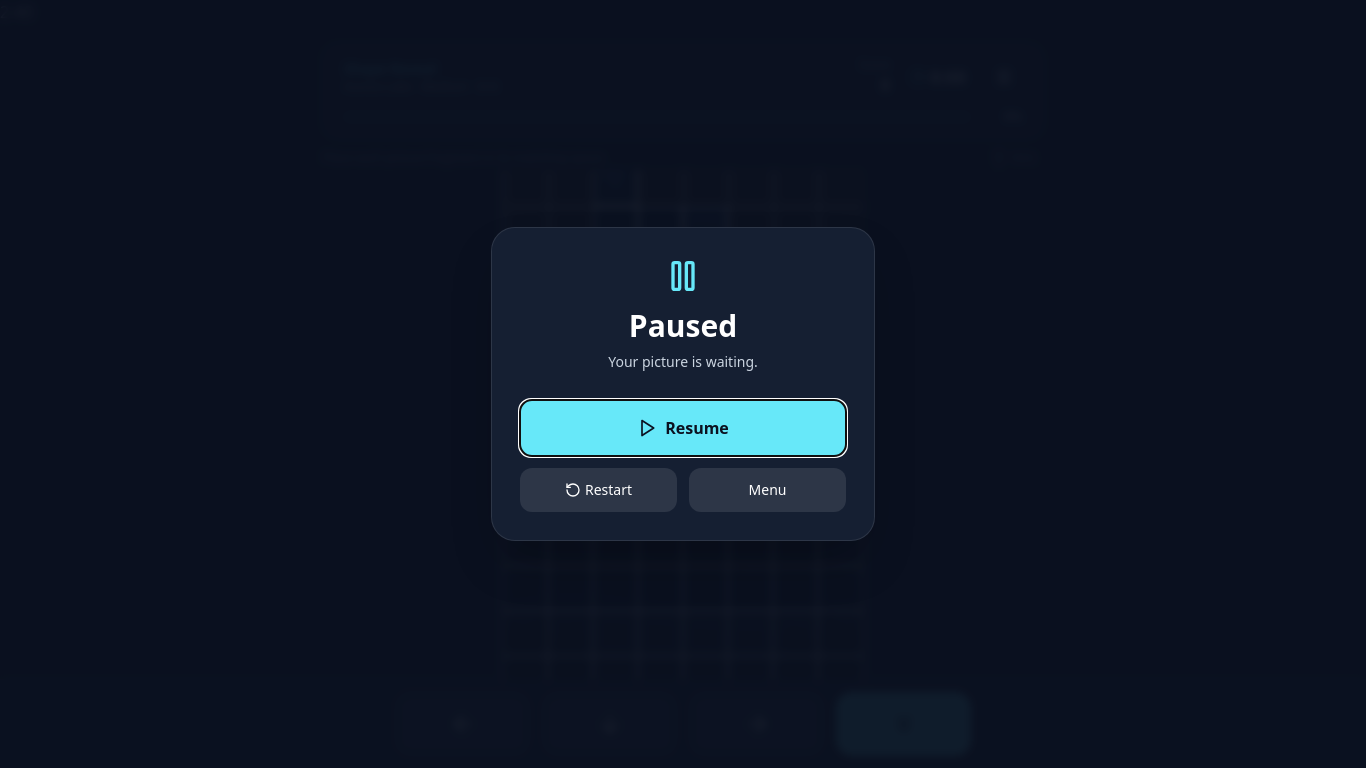
Test: touch controls › pause opens a focused dialog that blocks input until resumed
Earlier steps of the test are not shown.
Click the button "Resume". click: click(683, 428)
box: [520,400,846,456]
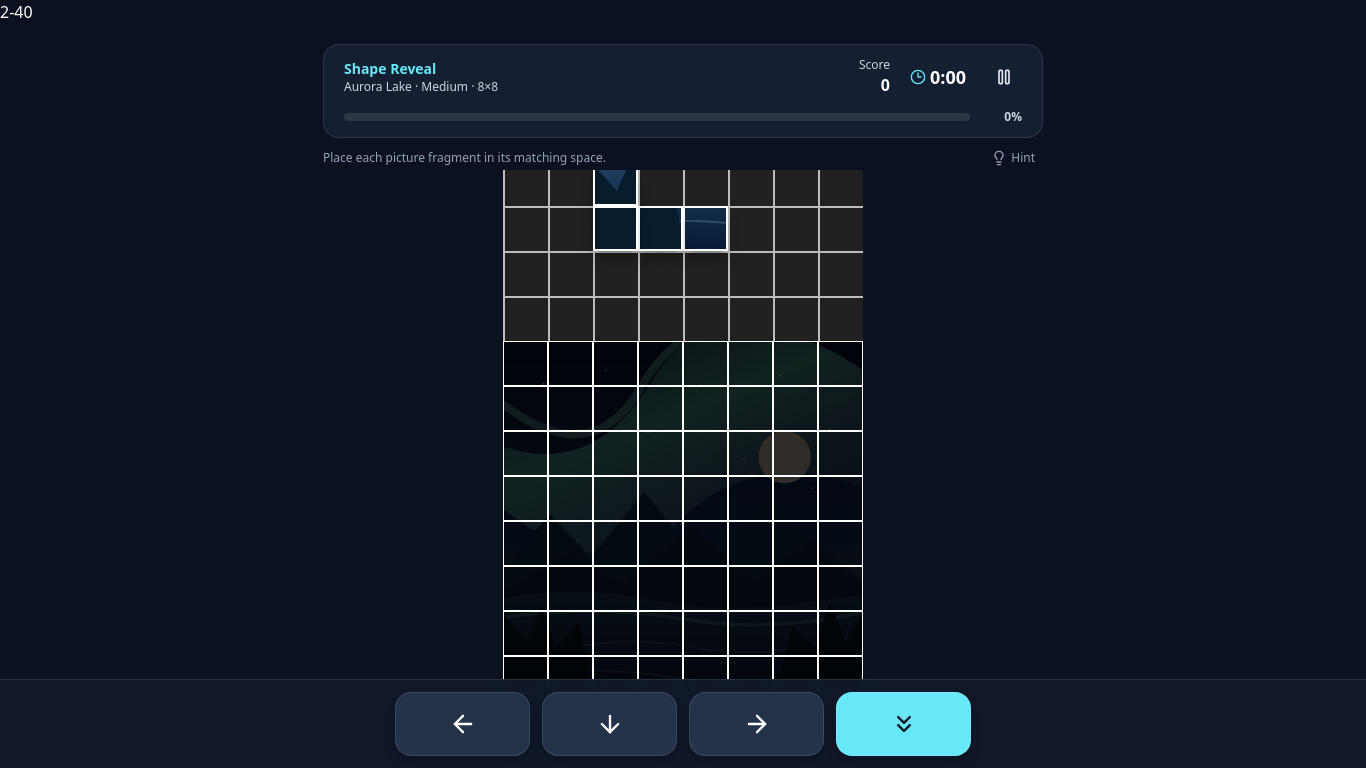
Now the dialog is gone
